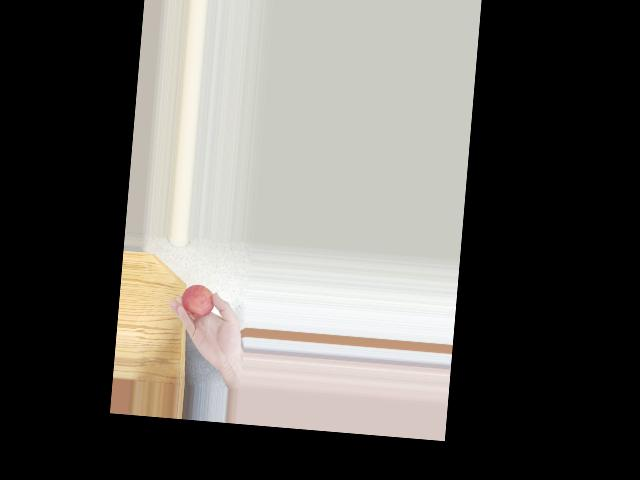apple: (179, 282, 216, 322)
